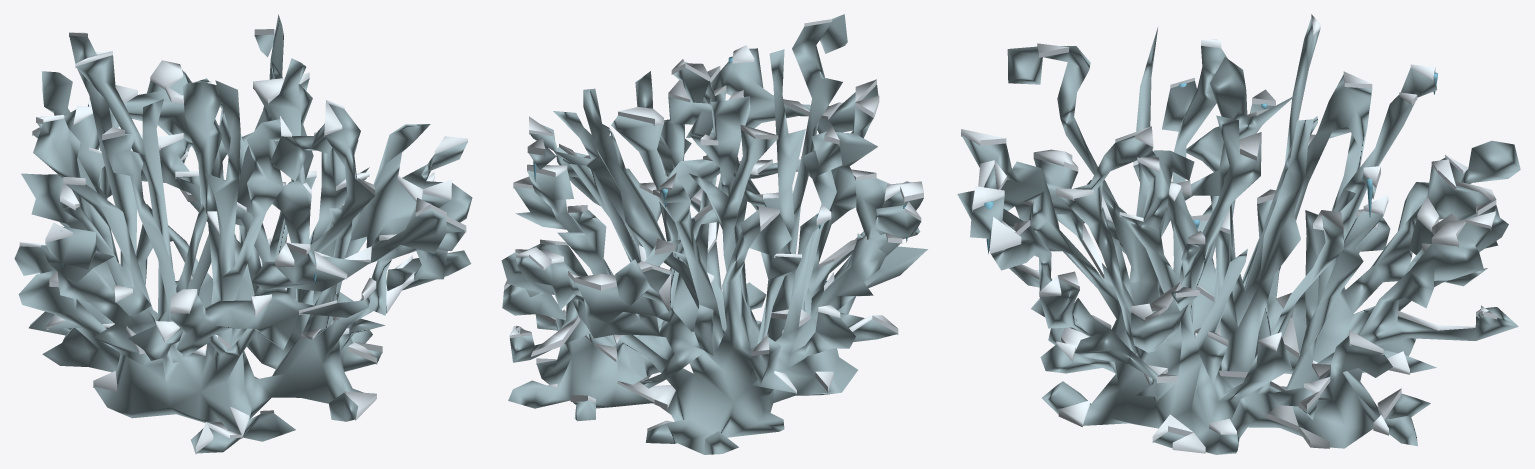
File: FirstRoom_SnowShrub.fbx
3 renders of one model, left to right at view 1: azimuth 30°, elevation 25°; view 2: azimuth 150°, elevation 25°; view 3: azimuth 270°, elevation 25°, orthographic. The views are drawn at different scales.
Visible parts, largest first — view 1: FirstRoom_SnowShrub_LOD0; view 2: FirstRoom_SnowShrub_LOD0; view 3: FirstRoom_SnowShrub_LOD0.
Part boxes in pixels (<box>): FirstRoom_SnowShrub_LOD0: <box>14,14,472,454</box>; FirstRoom_SnowShrub_LOD0: <box>501,14,927,454</box>; FirstRoom_SnowShrub_LOD0: <box>957,14,1520,454</box>.
Size of what is drawn, in the model's own units: 5.37 by 4.11 by 6.
